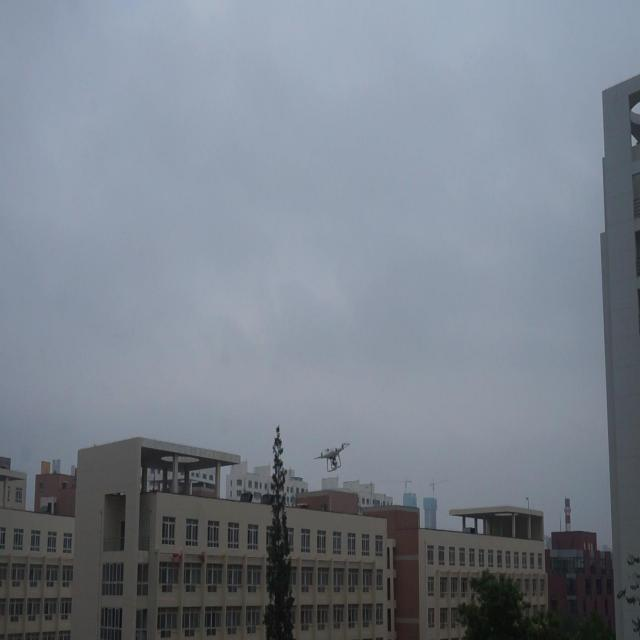UAV: (314, 442, 350, 472)
